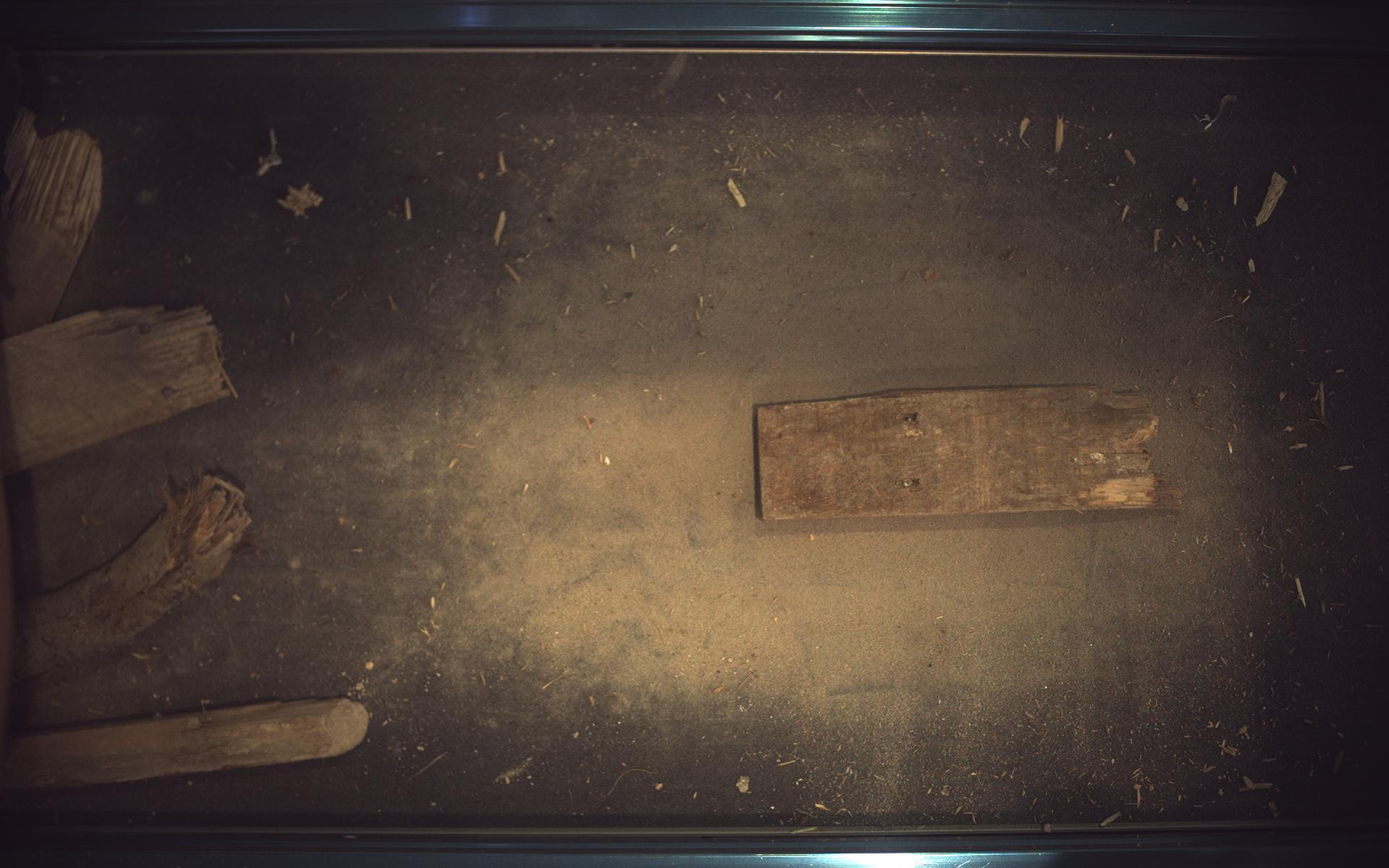wood: (757, 385, 1183, 521)
